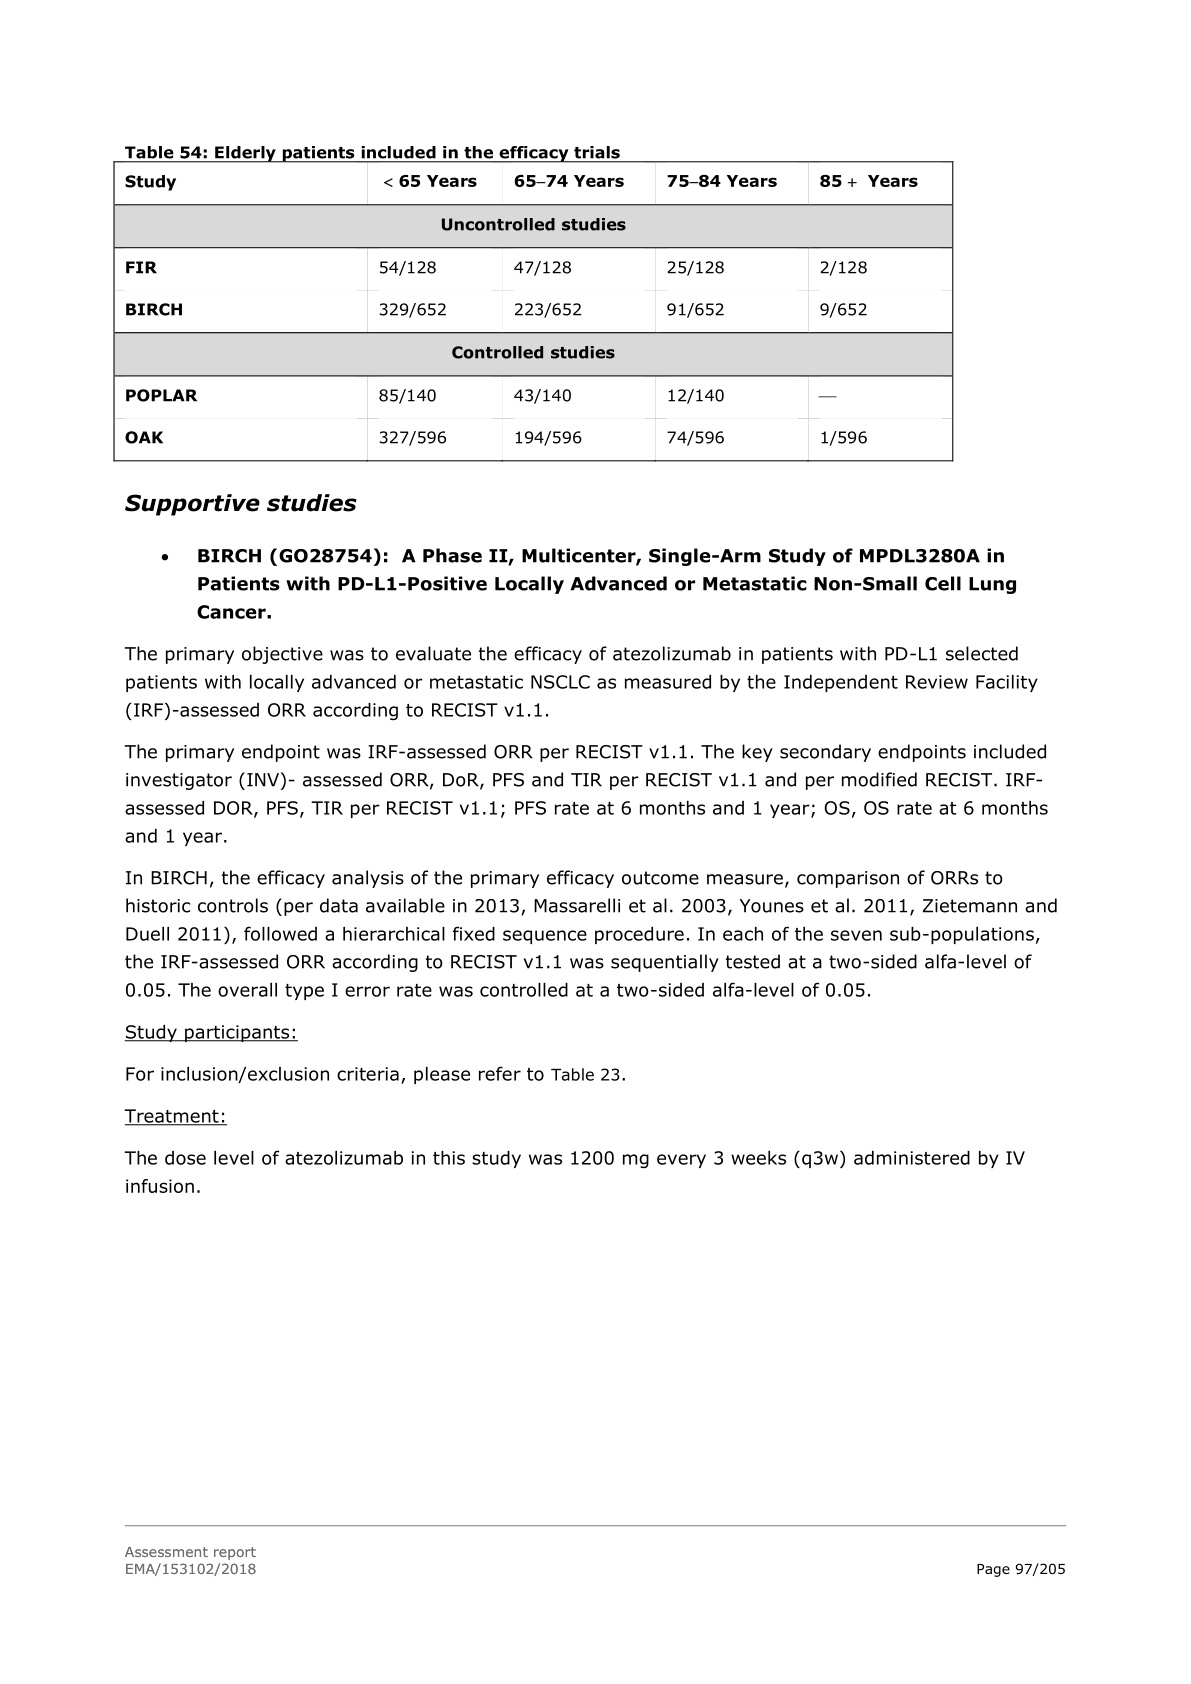merged_cells: (112, 160, 955, 464)
